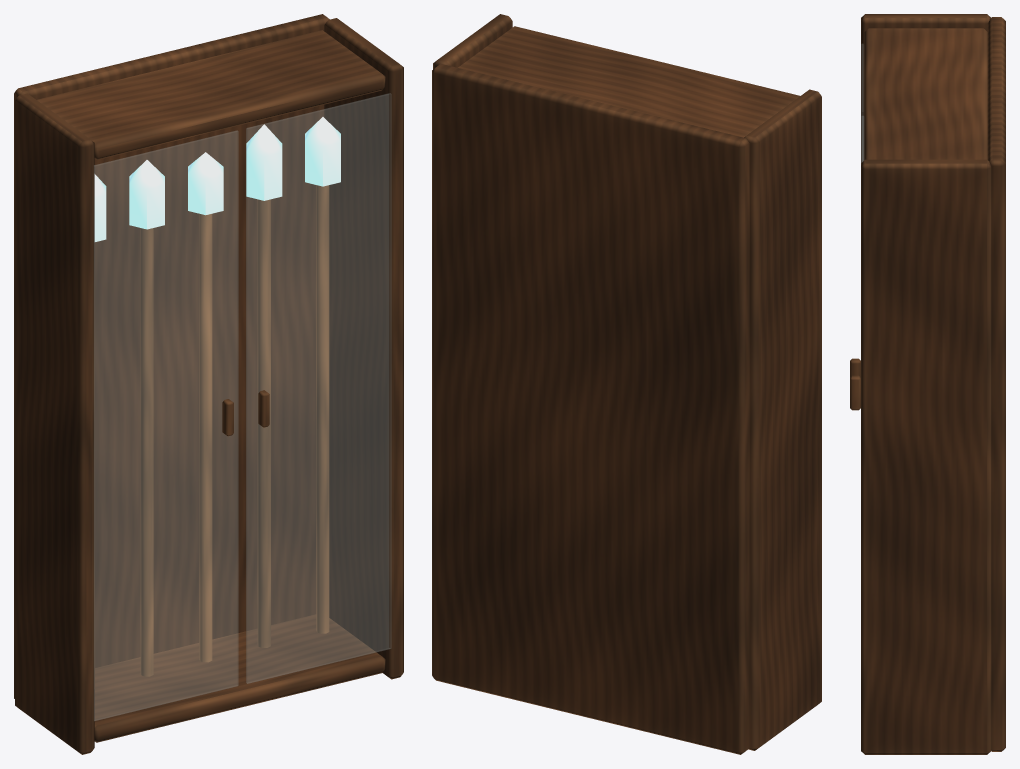
File: Furn_MagicClub_WandCase.fbx
The picture shows the model from 3 angles, left to right: view 1: azimuth 30°, elevation 25°; view 2: azimuth 150°, elevation 25°; view 3: azimuth 270°, elevation 25°; orthographic projection. The views are drawn at different scales.
Parts seen in each view (by area): view 1: Furn_MagicClub_WandCase; view 2: Furn_MagicClub_WandCase; view 3: Furn_MagicClub_WandCase.
Part boxes in pixels (box(x1,y1,x2,y2)): Furn_MagicClub_WandCase: box(14, 14, 403, 754); Furn_MagicClub_WandCase: box(432, 14, 821, 754); Furn_MagicClub_WandCase: box(850, 14, 1005, 754).
Size of the model in its own units: 1 by 1.8 by 0.43.
4 materials, 2 textured.
